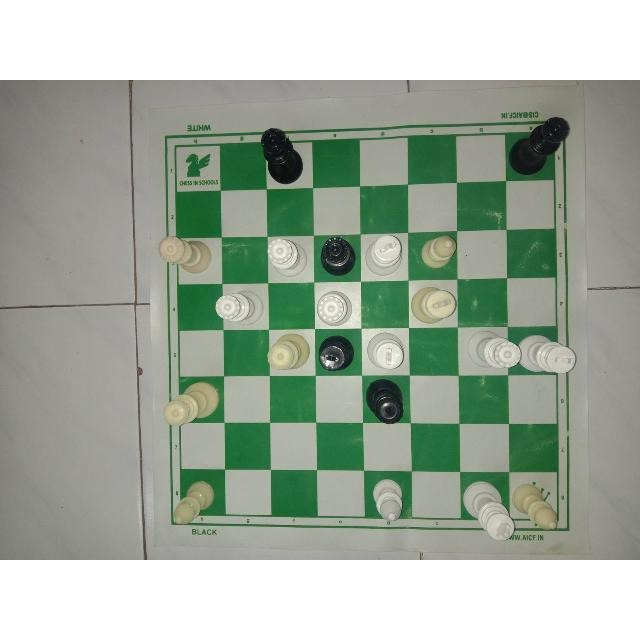black-king: (313, 334, 355, 372)
black-queen: (505, 113, 573, 181), (260, 126, 310, 185), (363, 376, 405, 426), (317, 234, 358, 278)
white-bishop: (169, 473, 221, 529), (513, 480, 567, 530), (369, 469, 409, 521), (416, 229, 456, 276)
white-king: (460, 481, 517, 543), (522, 331, 578, 377), (363, 233, 407, 279), (410, 283, 458, 325), (366, 330, 406, 374)
white-queen: (161, 380, 221, 428), (156, 233, 216, 277), (465, 329, 522, 370), (213, 286, 267, 327), (267, 235, 310, 279), (266, 331, 310, 374), (314, 286, 354, 328)
